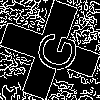G: (25, 25, 81, 76)
